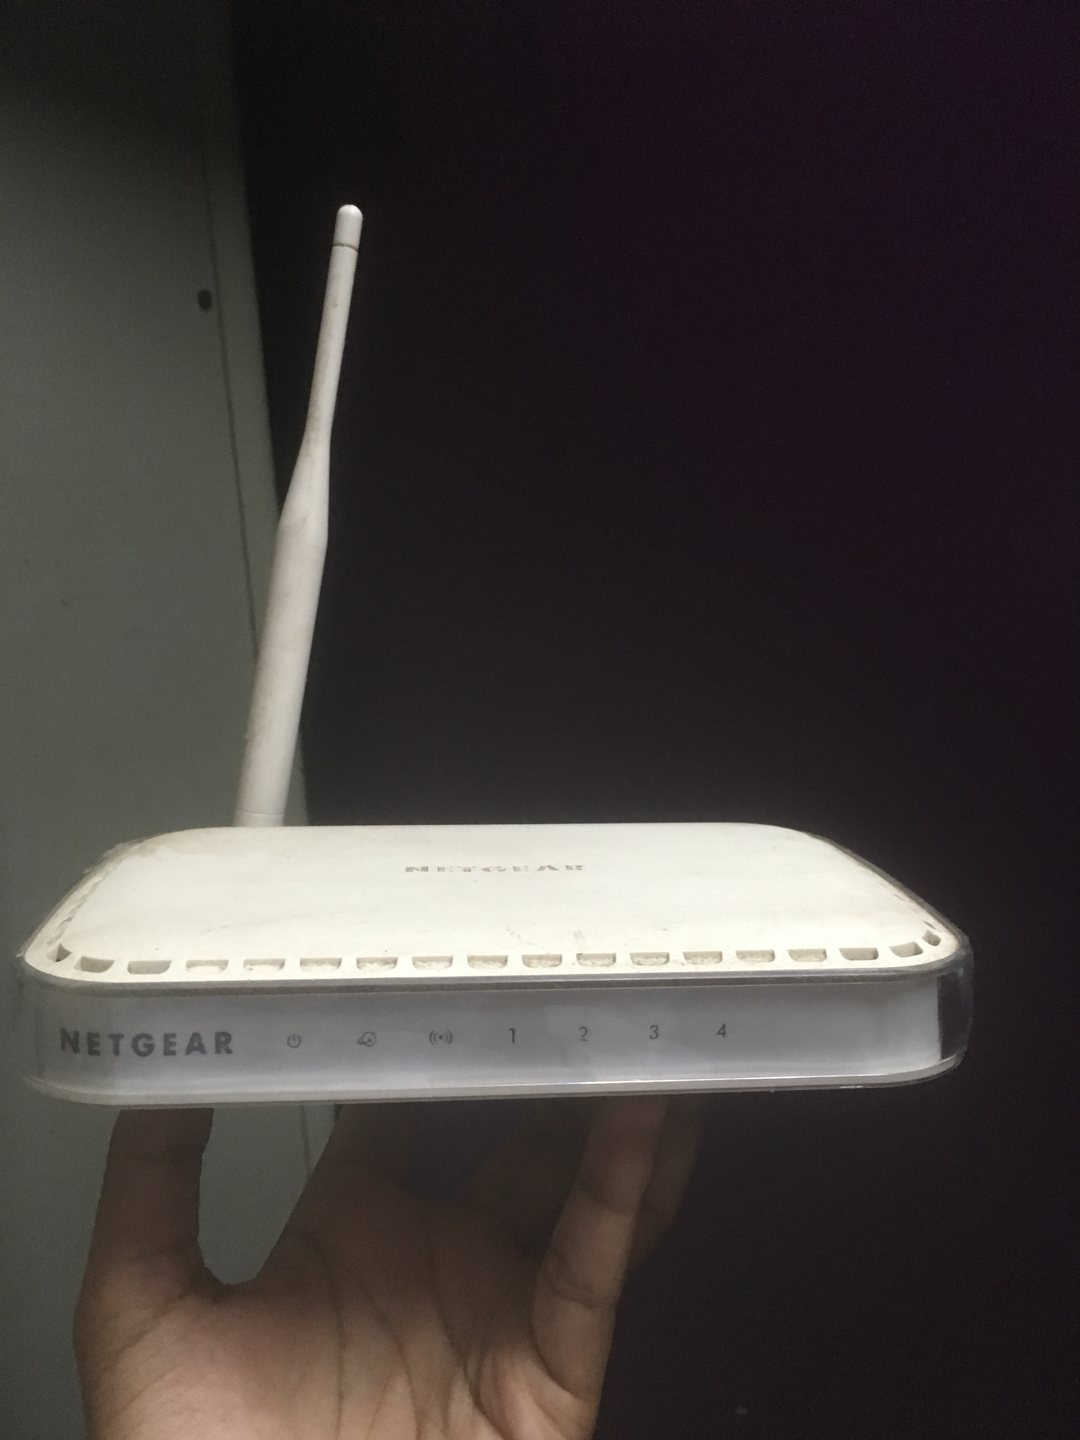NETGEAR: (45, 1020, 241, 1065)
modem: (12, 964, 1005, 1101)
